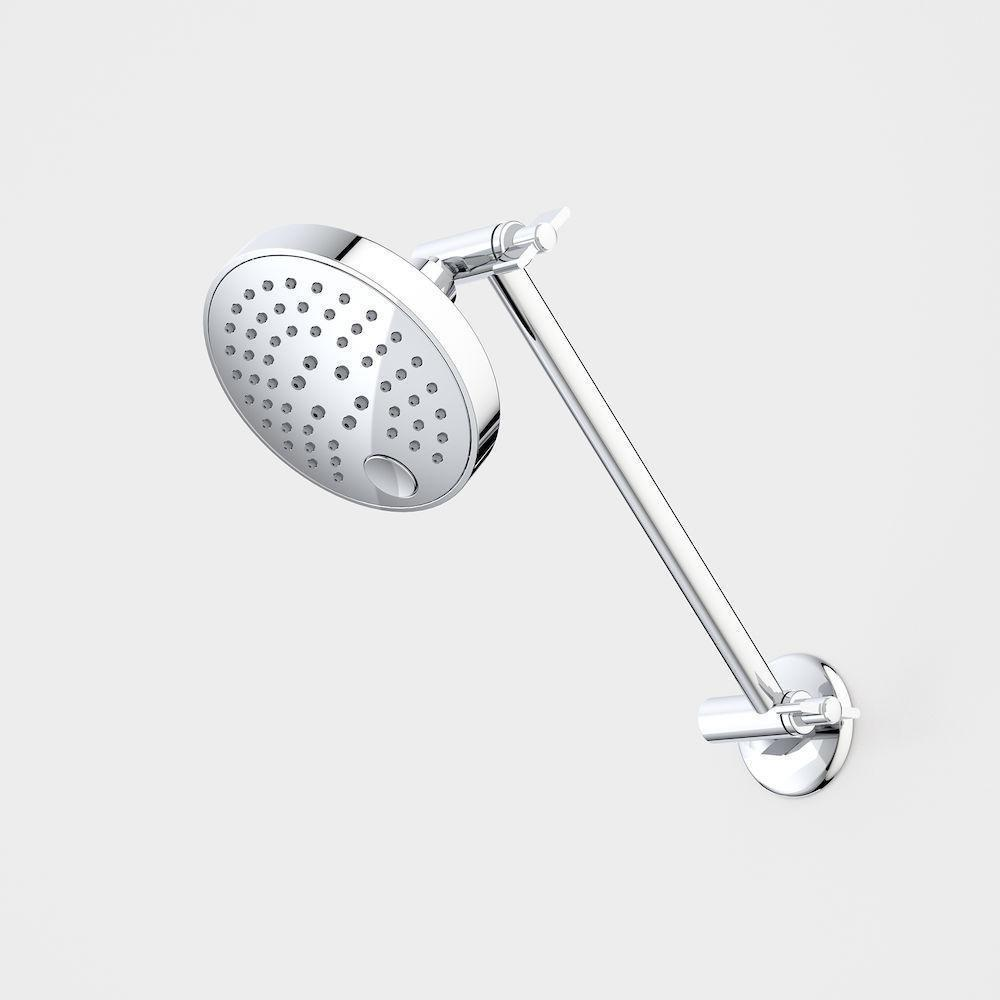Ducha: (166, 200, 865, 849)
